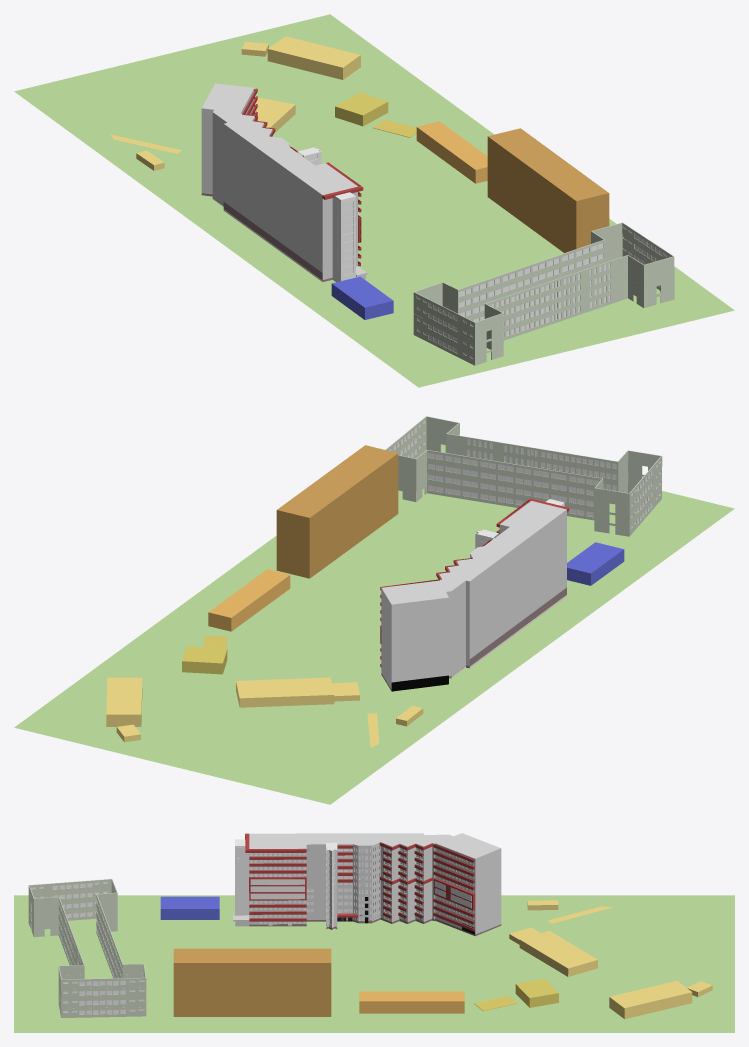
3 views of the same model, one above another, from view 1: azimuth 30°, elevation 25°; view 2: azimuth 150°, elevation 25°; view 3: azimuth 270°, elevation 25° (orthographic). The views are drawn at different scales.
Visible parts, largest first — view 1: Taas.079; view 2: Taas.079; view 3: Taas.079.
Boxes of the visible parts, <box> form: Taas.079: <box>14,14,734,387</box>; Taas.079: <box>14,416,734,804</box>; Taas.079: <box>14,833,734,1032</box>.
Size of the model in its own units: 197 by 54.03 by 437.
